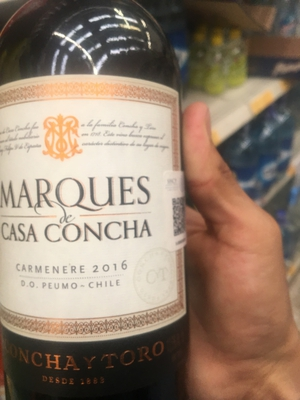marques de casa concha carmenere: (2, 14, 203, 400)
